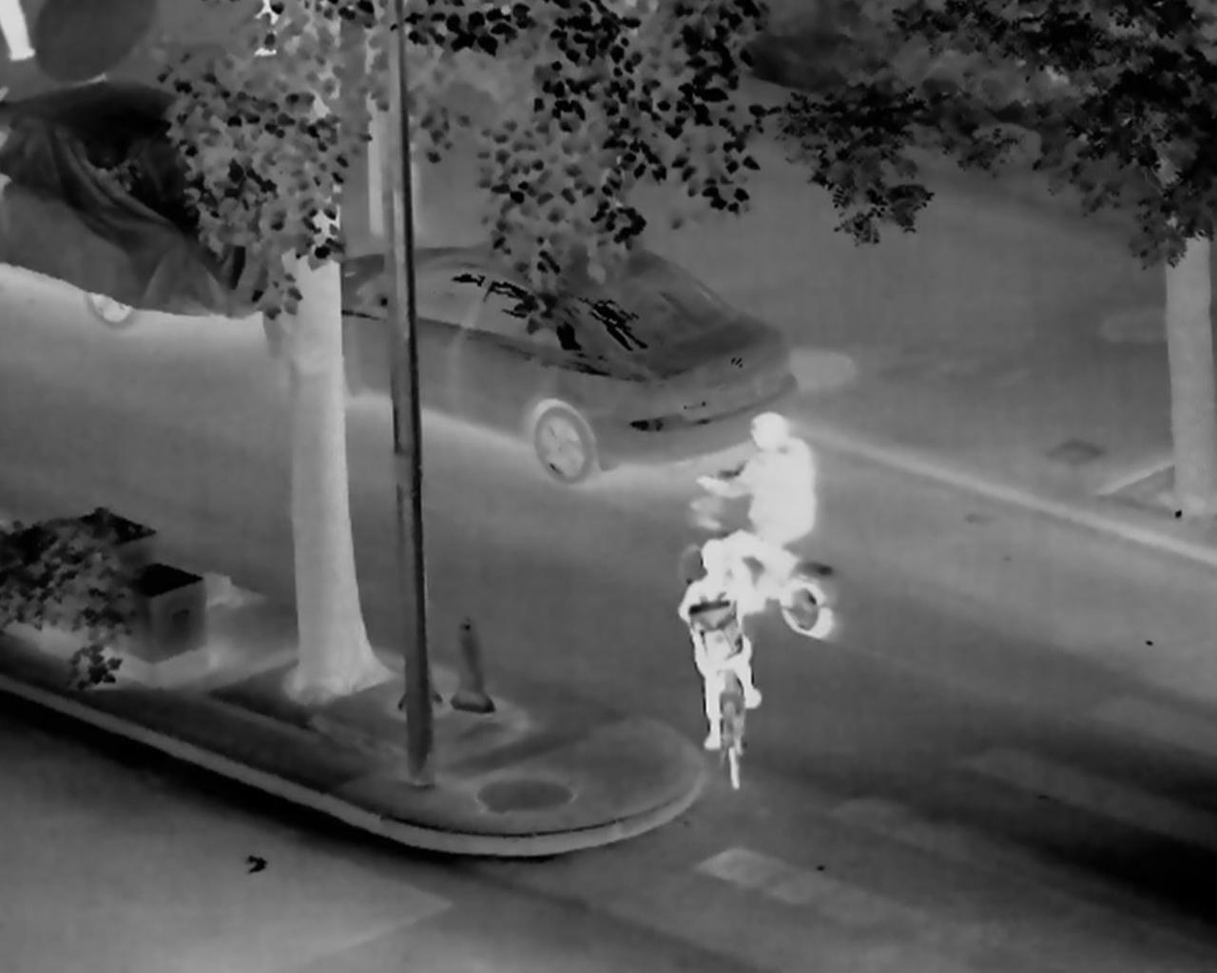person: (703, 410, 819, 583), (673, 541, 763, 748)
